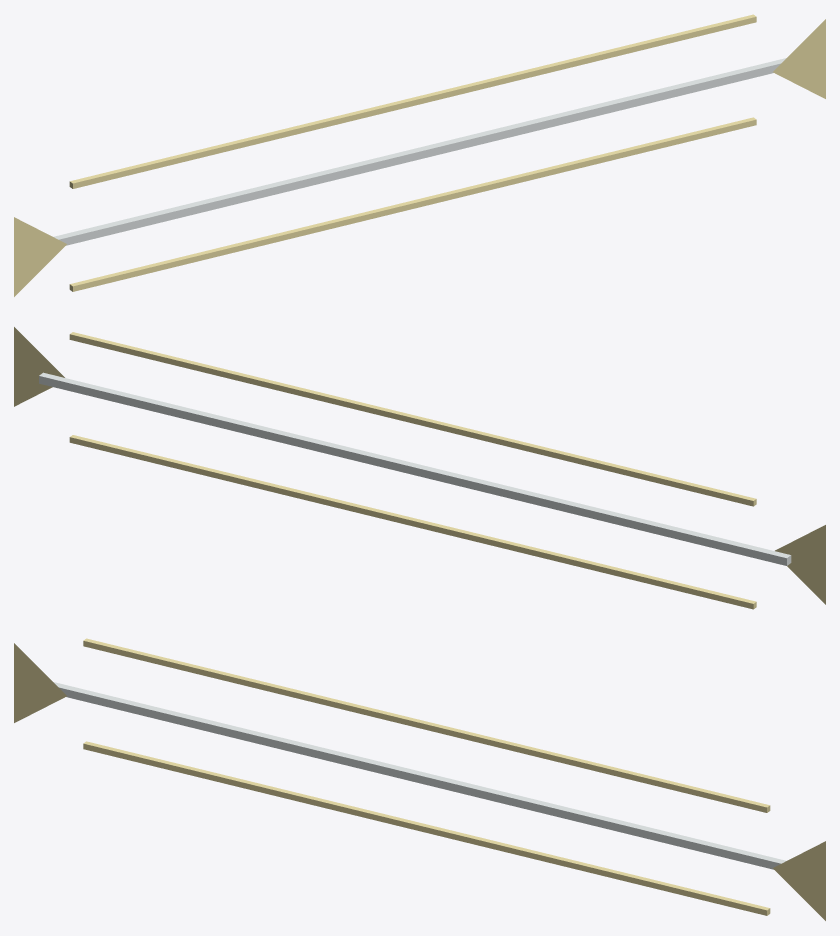
The model's file is linea_comodin.glb.
The picture shows the model from 3 angles, top to bottom: view 1: azimuth 30°, elevation 25°; view 2: azimuth 150°, elevation 25°; view 3: azimuth 330°, elevation 25°; orthographic projection.
Parts seen in each view (by area): view 1: linea_comodin; view 2: linea_comodin; view 3: linea_comodin.
Part boxes in pixels (bbox=[...]): linea_comodin: bbox=[14, 14, 825, 296]; linea_comodin: bbox=[14, 327, 825, 609]; linea_comodin: bbox=[14, 638, 825, 920].
Bounding box in the file's own units: 3.8 × 0.485 × 0.0675.
